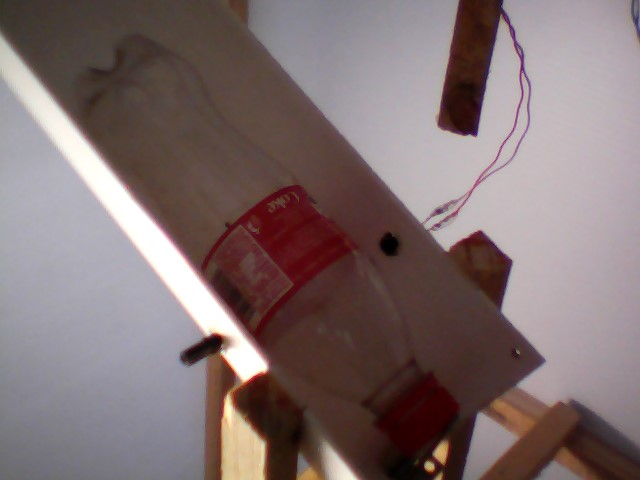plastico: (57, 26, 472, 462)
